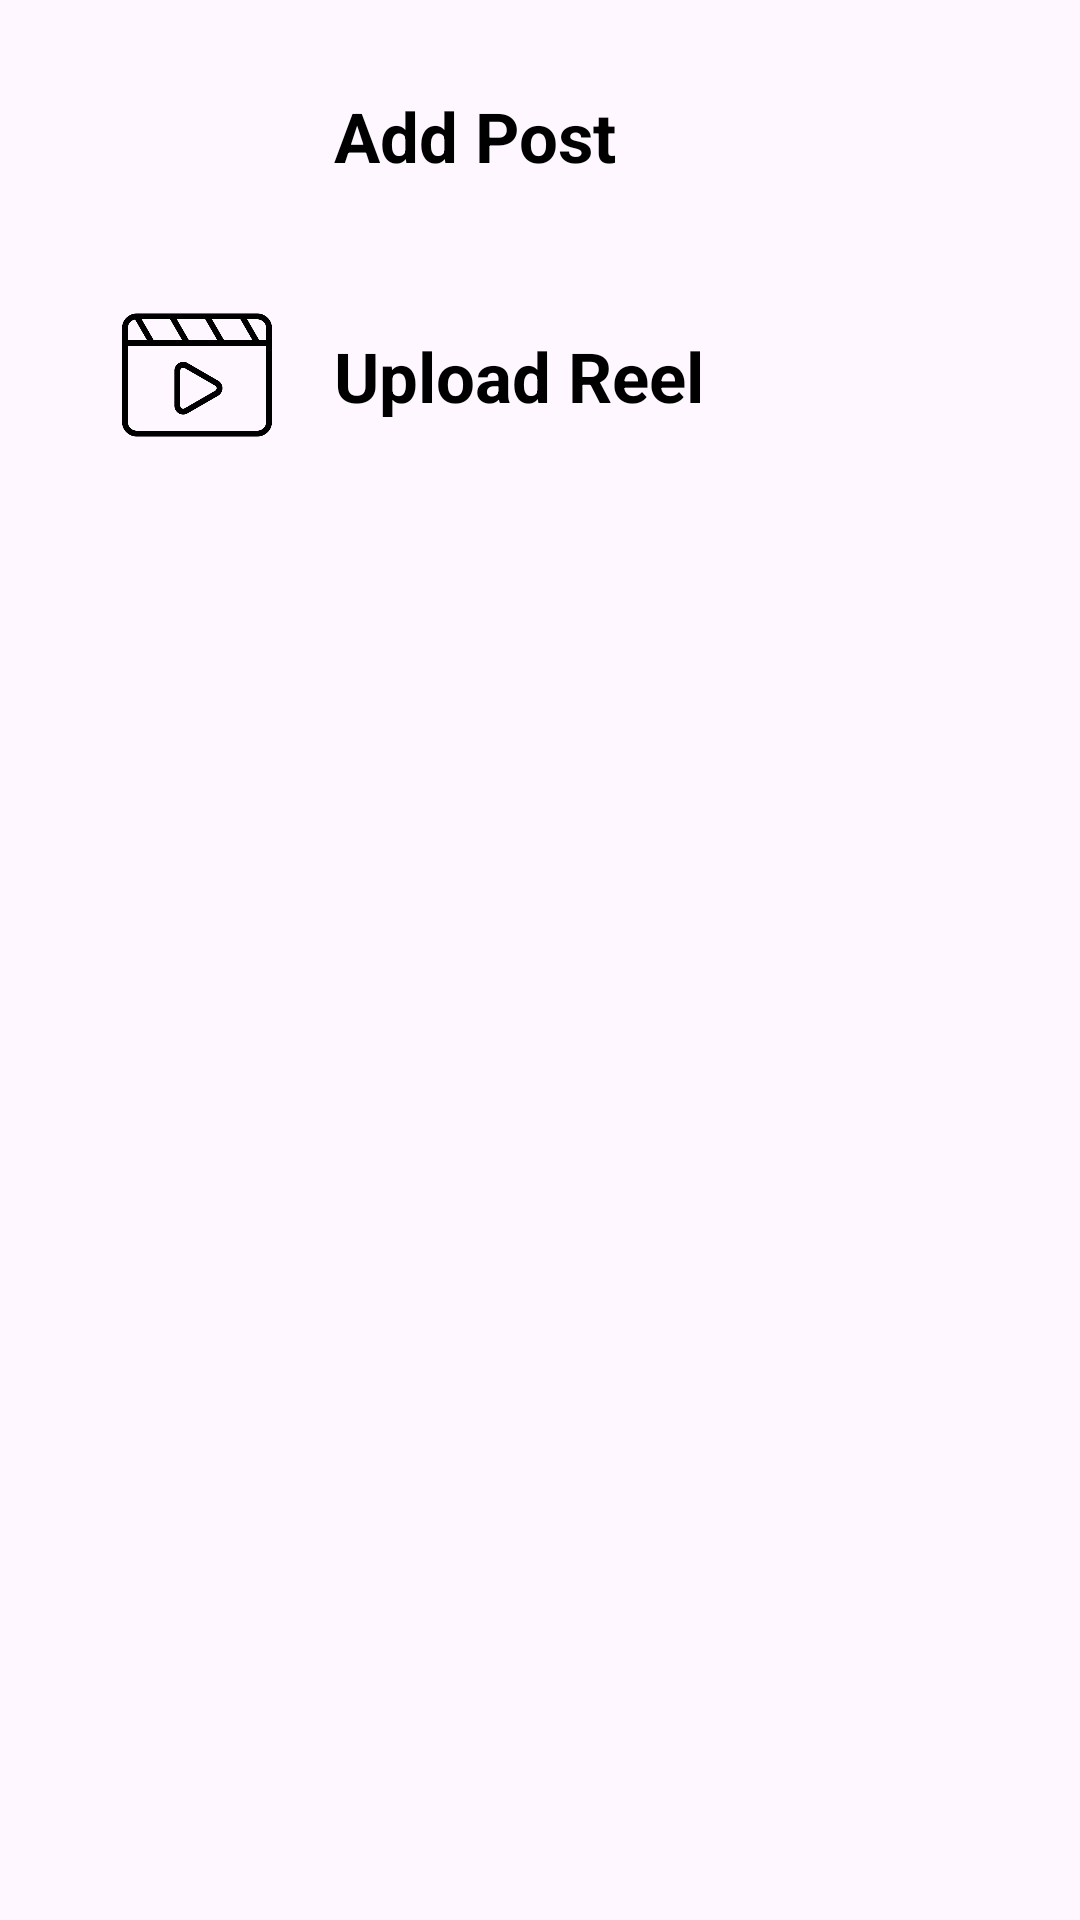

Screen size 1080 x 1920. Icon name, then its box in pixels as (x1, y1, x2, y2):
reels: (122, 313, 272, 437)
